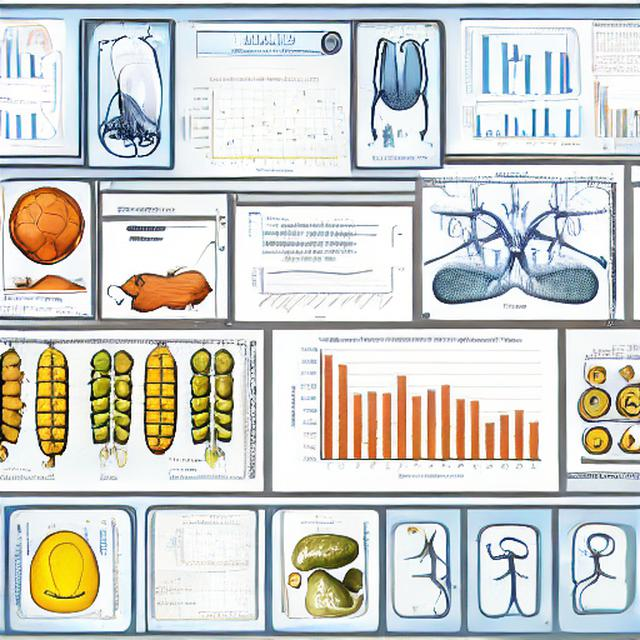Graph: (284, 330, 547, 485), (185, 75, 344, 174), (248, 248, 379, 320), (461, 98, 540, 150), (174, 521, 251, 573)
